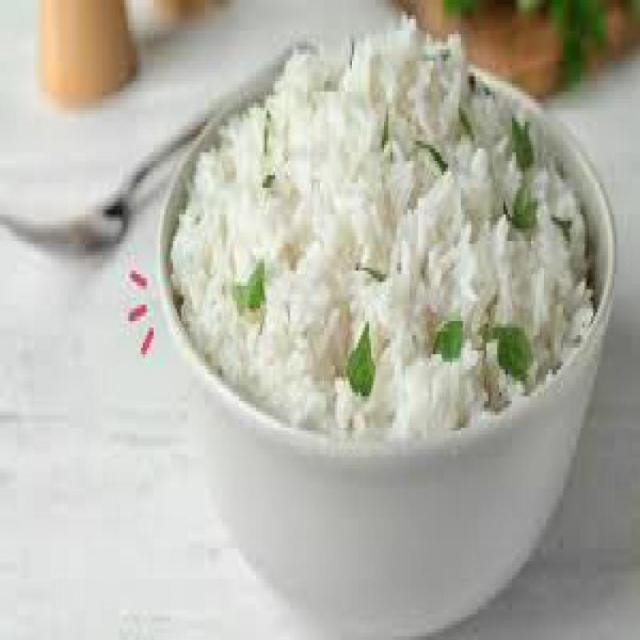rice: (171, 12, 596, 442)
